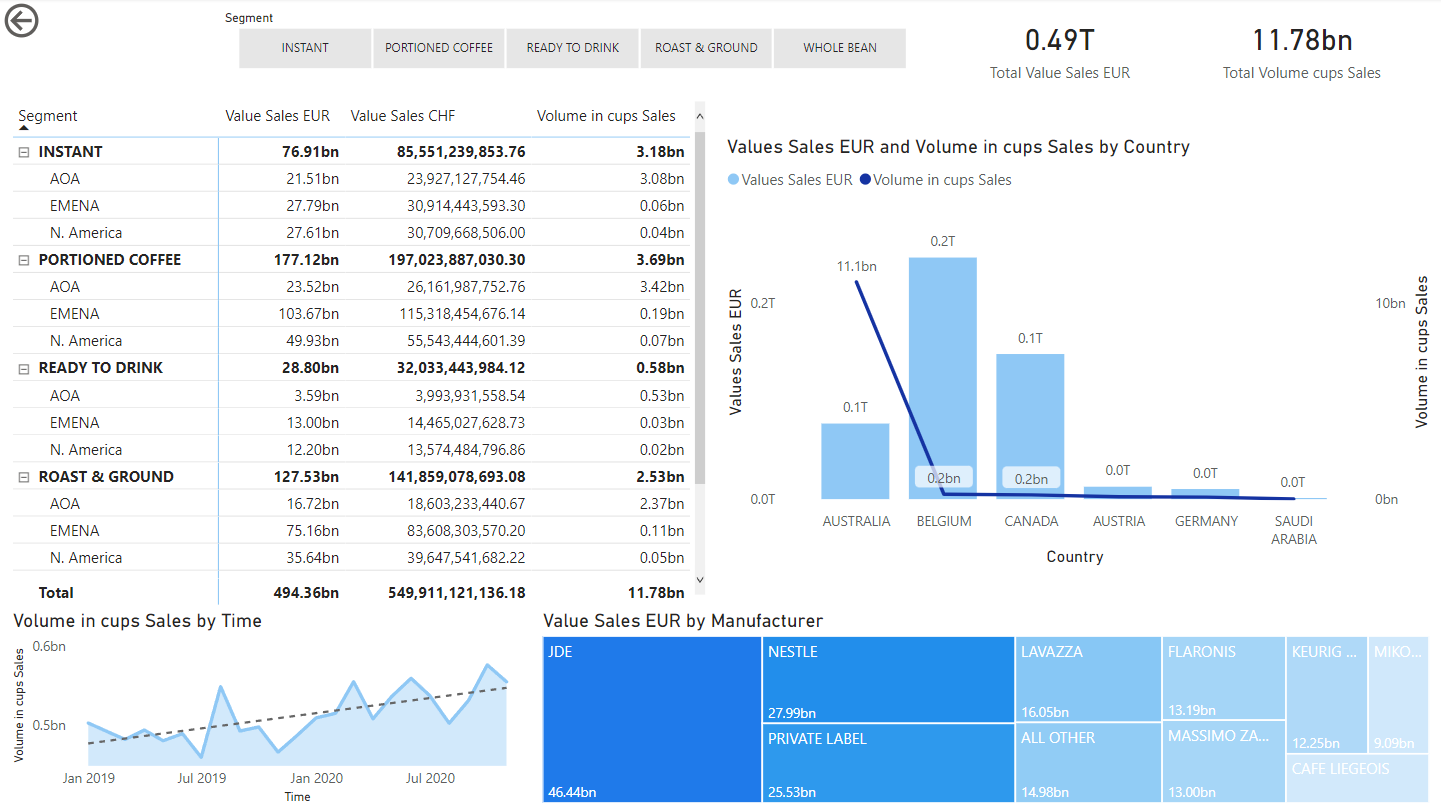

Layout of this report page (visuals, bound fields, positions):
{"tool":"powerbi","page":{"name":"Basic","canvas":[1280,720],"ordinal":0},"visuals":[{"type":"pivotTable","fields":{"Rows":["Coffee_data (1).Segment","Coffee_data (1).REGION"],"Values":["Sum(Coffee_data (1).Value Sales EUR)","Sum(Coffee_data (1).Value Sales CHF)","Sum(Coffee_data (1).Volume in cups Sales)"]},"box":[7.1,86.9,624.2,455.8],"z":0},{"type":"slicer","fields":{"Values":["Coffee_data (1).Segment"]},"box":[187.1,6.2,641.1,63],"z":1000},{"type":"lineStackedColumnComboChart","fields":{"Y":["Sum(Coffee_data (1).Value Sales EUR)"],"Category":["Coffee_data (1).Country"],"Y2":["Sum(Coffee_data (1).Volume in cups Sales)"]},"box":[640.2,121.5,633.1,386.6],"z":2000},{"type":"treemap","fields":{"Values":["Sum(Coffee_data (1).Value Sales EUR)"],"Group":["Coffee_data (1).Manufacturer"]},"box":[477,541.8,796.3,177.3],"z":3000},{"type":"areaChart","fields":{"Category":["Coffee_data (1).Time"],"Y":["Sum(Coffee_data (1).Volume in cups Sales)"]},"box":[7.1,541.8,470,177.3],"z":4000},{"type":"card","fields":{"Values":["Sum(Coffee_data (1).Value Sales EUR)"]},"box":[828.3,0,225.3,86.6],"z":5000},{"type":"card","fields":{"Values":["Sum(Coffee_data (1).Volume in cups Sales)"]},"box":[1042.8,0,225.2,86.9],"z":6000},{"type":"actionButton","box":[0,0,100,40],"z":7000}]}

Visuals, with their boxes in screenshot pixels (x1, y1, x2, y2), scaled from the page's 1280x720 canvas onto the 1441x809 screenshot:
pivotTable - Coffee_data (1).Segment x Coffee_data (1).REGION: (left=8, top=98, right=711, bottom=610)
slicer - Coffee_data (1).Segment: (left=211, top=7, right=932, bottom=78)
lineStackedColumnComboChart - Sum(Coffee_data (1).Value Sales EUR) x Coffee_data (1).Country: (left=721, top=137, right=1433, bottom=571)
treemap - Sum(Coffee_data (1).Value Sales EUR) x Coffee_data (1).Manufacturer: (left=537, top=609, right=1433, bottom=808)
areaChart - Coffee_data (1).Time x Sum(Coffee_data (1).Volume in cups Sales): (left=8, top=609, right=537, bottom=808)
card - Sum(Coffee_data (1).Value Sales EUR): (left=932, top=0, right=1186, bottom=97)
card - Sum(Coffee_data (1).Volume in cups Sales): (left=1174, top=0, right=1427, bottom=98)
actionButton: (left=0, top=0, right=113, bottom=45)
